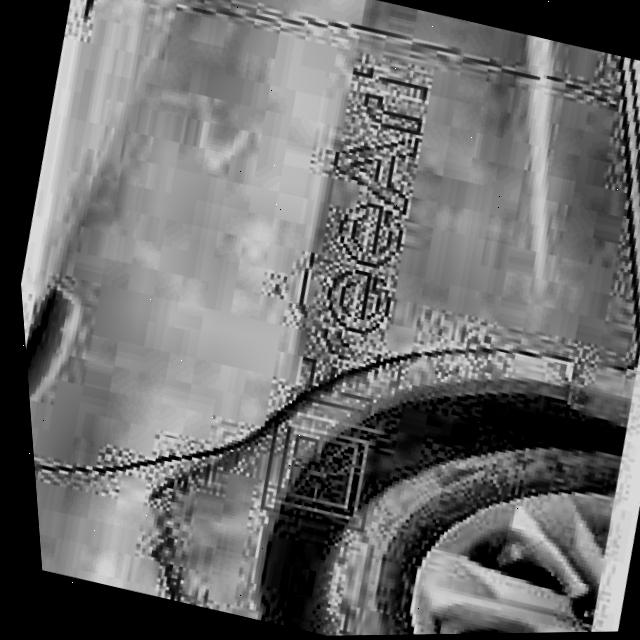door_scratch: (266, 236, 529, 404), (133, 413, 263, 545)
